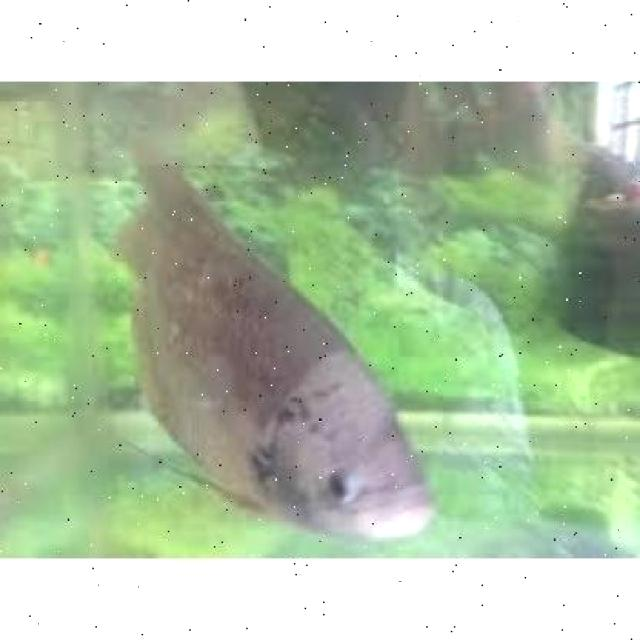gurame: (113, 132, 441, 542)
